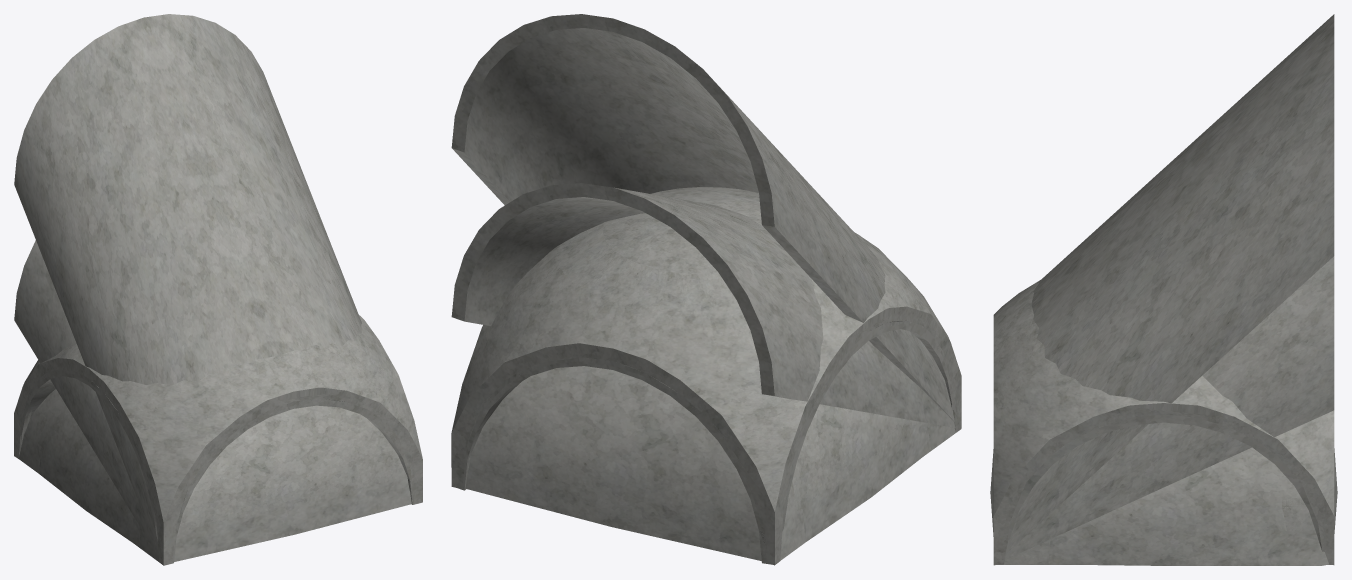
The model's file is VaultedCielings.fbx.
The picture shows the model from 3 angles, left to right: view 1: azimuth 30°, elevation 25°; view 2: azimuth 150°, elevation 25°; view 3: azimuth 270°, elevation 25°; orthographic projection. The views are drawn at different scales.
Visible parts, largest first — view 1: Cieling Vault C01-Up, Cieling Vault C04, Cieling Vault D, Cieling Vault C01-30, Cieling Vault C01, Cieling Vault C03, Cieling Vault C02; view 2: Cieling Vault C01-Up, Cieling Vault D, Cieling Vault C04, Cieling Vault C01-30, Cieling Vault C01, Cieling Vault C03, Cieling Vault C02; view 3: Cieling Vault C01-Up, Cieling Vault D, Cieling Vault C01-30, Cieling Vault C04, Cieling Vault C03, Cieling Vault C01, Cieling Vault C02.
Part boxes in pixels (bbox=[...]): Cieling Vault C01-Up: bbox=[14, 14, 361, 551]; Cieling Vault C04: bbox=[38, 389, 411, 561]; Cieling Vault D: bbox=[14, 315, 422, 565]; Cieling Vault C01-30: bbox=[14, 240, 158, 557]; Cieling Vault C01: bbox=[18, 394, 422, 565]; Cieling Vault C03: bbox=[20, 369, 411, 540]; Cieling Vault C02: bbox=[21, 370, 393, 499]; Cieling Vault C01-Up: bbox=[451, 14, 954, 421]; Cieling Vault D: bbox=[451, 187, 961, 565]; Cieling Vault C04: bbox=[465, 366, 931, 560]; Cieling Vault C01-30: bbox=[451, 183, 955, 427]; Cieling Vault C01: bbox=[457, 359, 960, 564]; Cieling Vault C03: bbox=[760, 322, 957, 542]; Cieling Vault C02: bbox=[452, 321, 947, 512]; Cieling Vault C01-Up: bbox=[1005, 14, 1334, 554]; Cieling Vault D: bbox=[993, 280, 1334, 564]; Cieling Vault C01-30: bbox=[994, 256, 1334, 564]; Cieling Vault C04: bbox=[990, 447, 1337, 565]; Cieling Vault C03: bbox=[1008, 414, 1320, 542]; Cieling Vault C01: bbox=[994, 497, 1318, 565]; Cieling Vault C02: bbox=[995, 497, 1333, 564].
Size of the model in its own units: 3.06 by 4.51 by 3.06.
